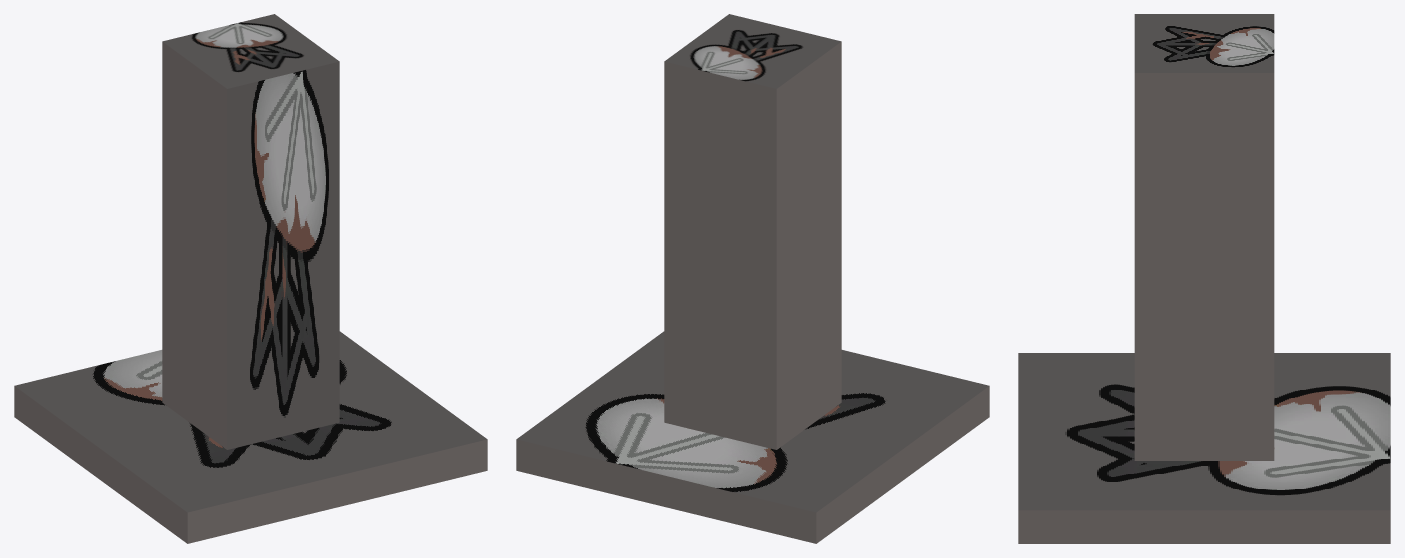
The model's file is Building_AncientAntenna.glb.
3 views of the same model, side by side, from view 1: azimuth 30°, elevation 25°; view 2: azimuth 150°, elevation 25°; view 3: azimuth 270°, elevation 25° (orthographic). The views are drawn at different scales.
Parts seen in each view (by area): view 1: AncientAntenna; view 2: AncientAntenna; view 3: AncientAntenna.
Part boxes in pixels (box(x1,y1,x2,y2)): AncientAntenna: box(14, 14, 487, 543); AncientAntenna: box(516, 14, 989, 543); AncientAntenna: box(1018, 14, 1390, 543).
Size of the model in its own units: 1.6 by 2 by 1.6.
Materials: 1 (1 with a texture image).
